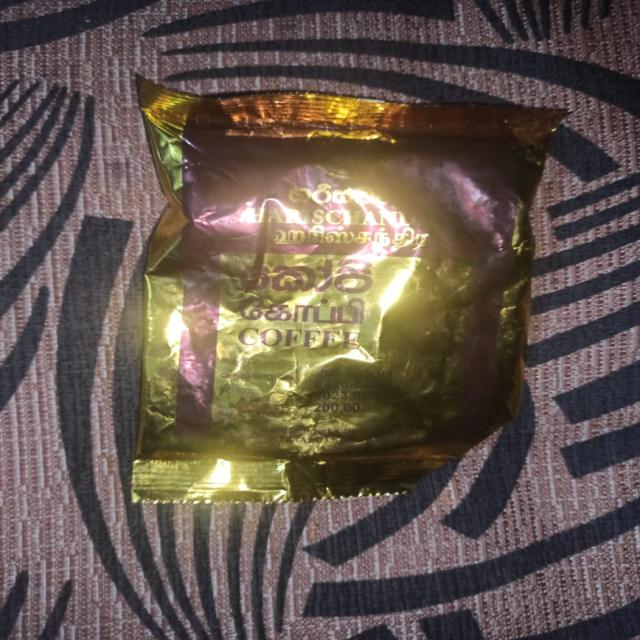Harischandra Coffee: (123, 76, 511, 595)
